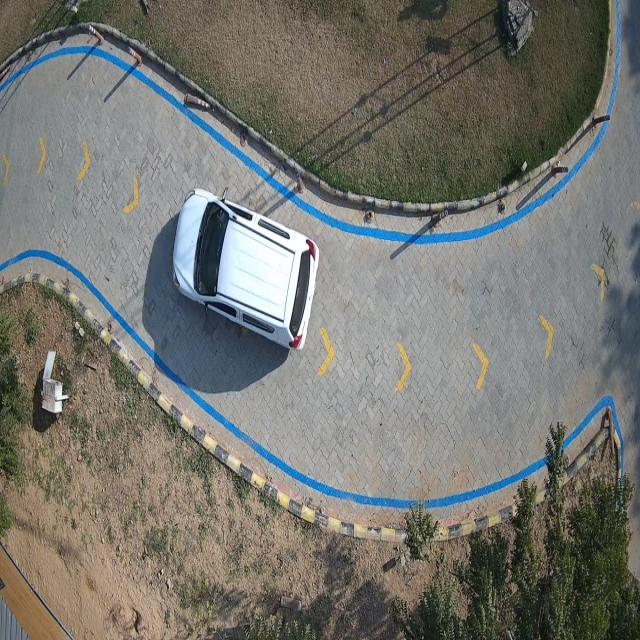car: (171, 186, 320, 352)
